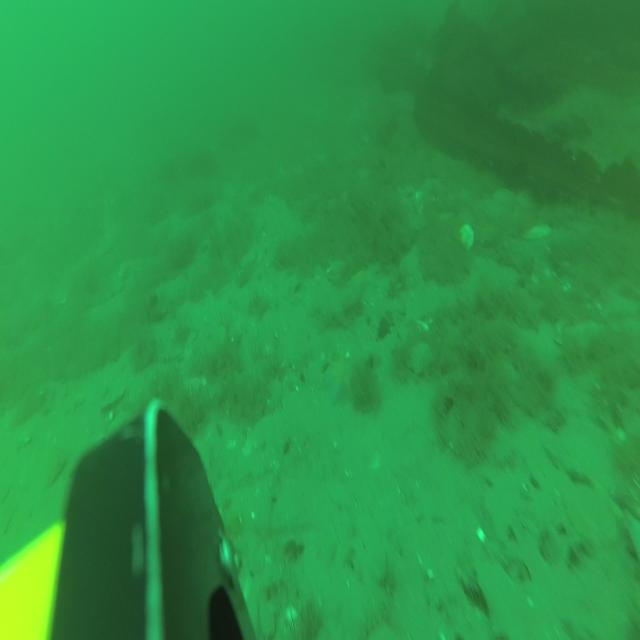scallop: (409, 342, 432, 372), (520, 220, 552, 238), (459, 223, 473, 251)
starfish: (324, 362, 359, 401), (350, 268, 375, 296)
